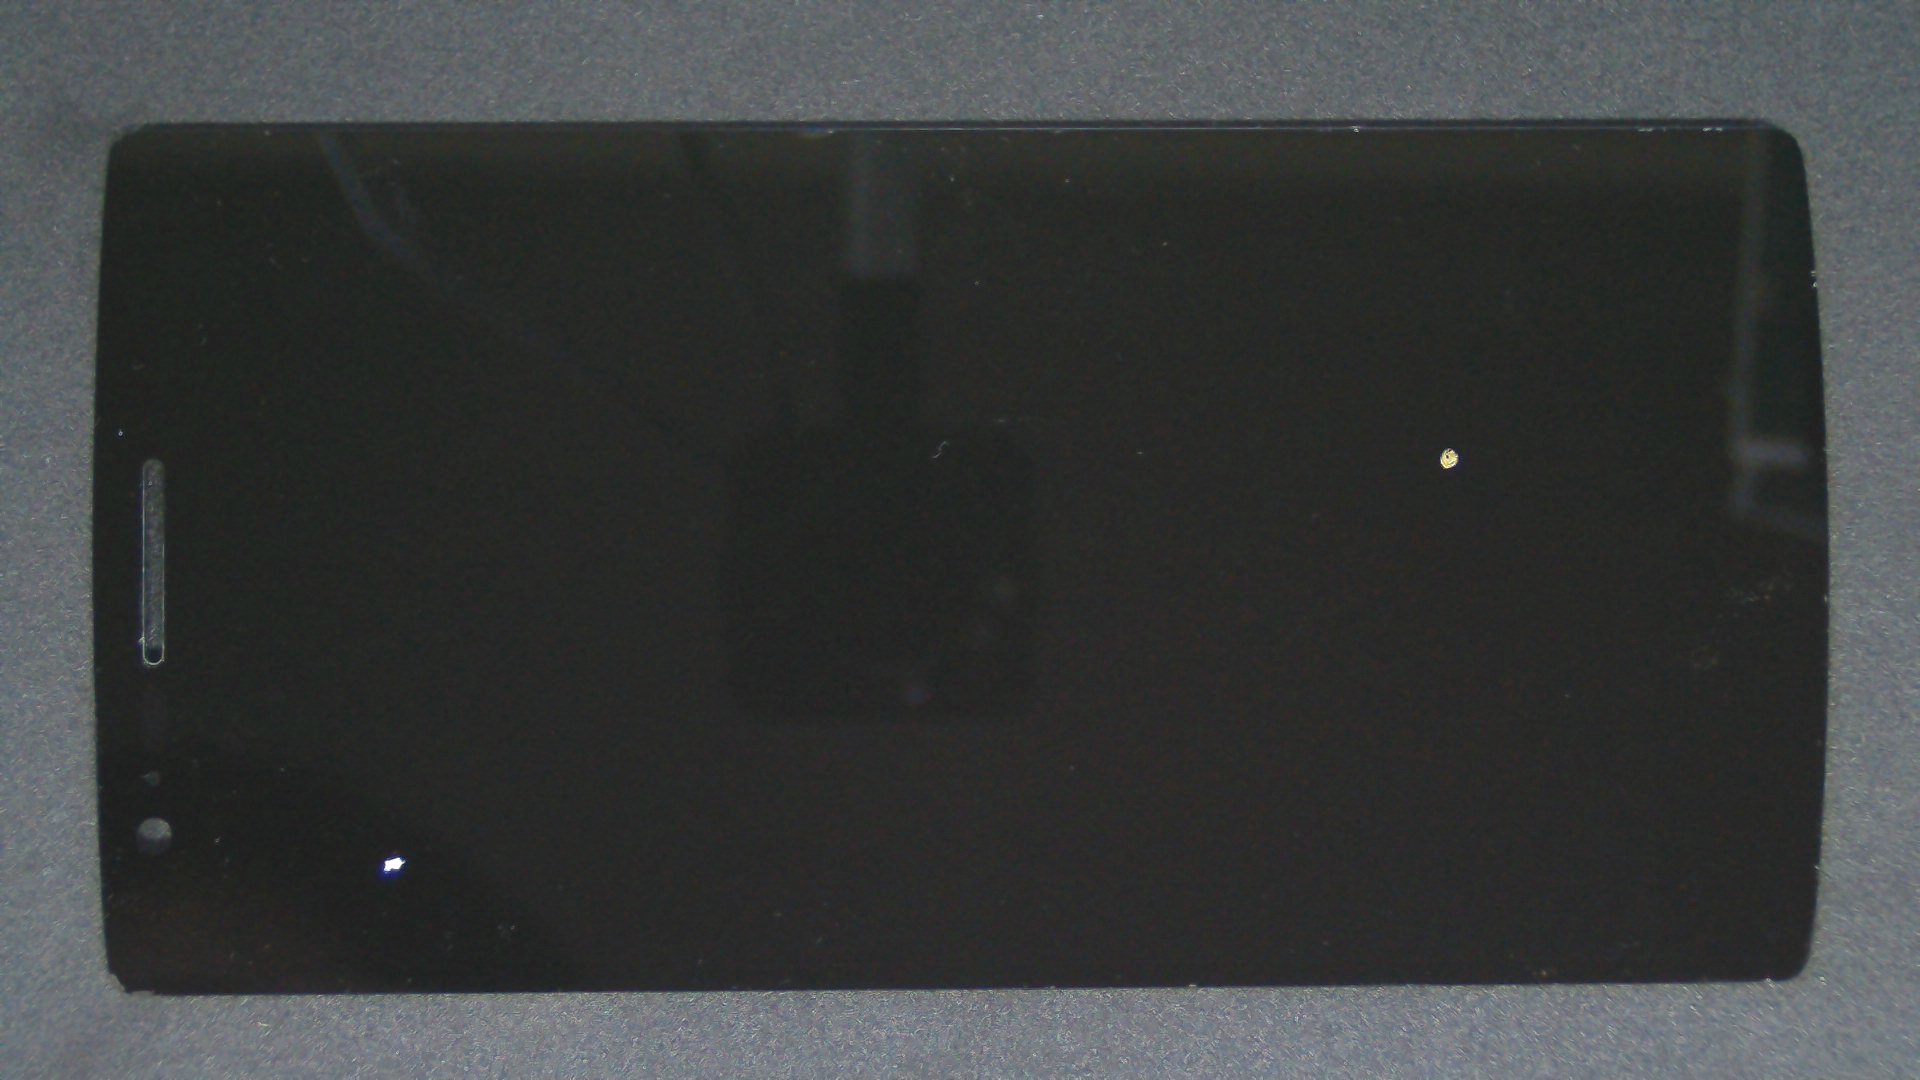oil: (727, 223, 1920, 670), (200, 426, 601, 1080)
